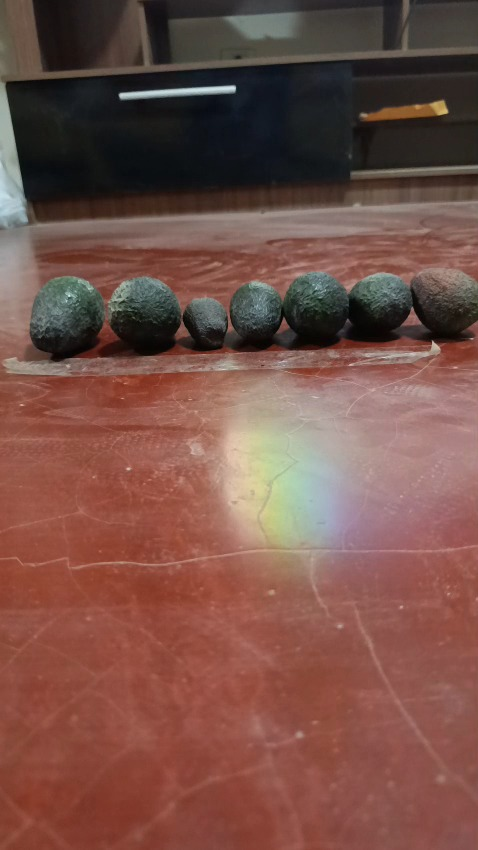Primera: (28, 274, 105, 354), (106, 275, 183, 348), (281, 271, 351, 340)
Segunda: (409, 267, 476, 337), (346, 272, 413, 337), (228, 279, 284, 344)
Tercera: (182, 297, 227, 349)
